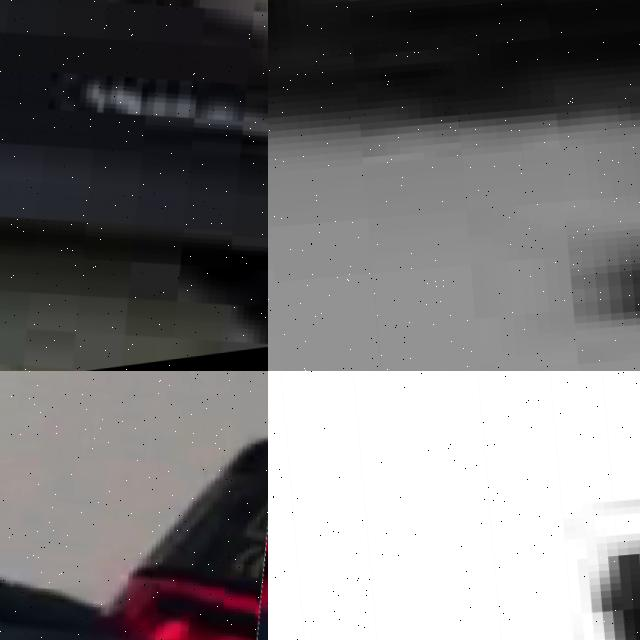0: (0, 0, 268, 371)
drone: (0, 371, 268, 640)
